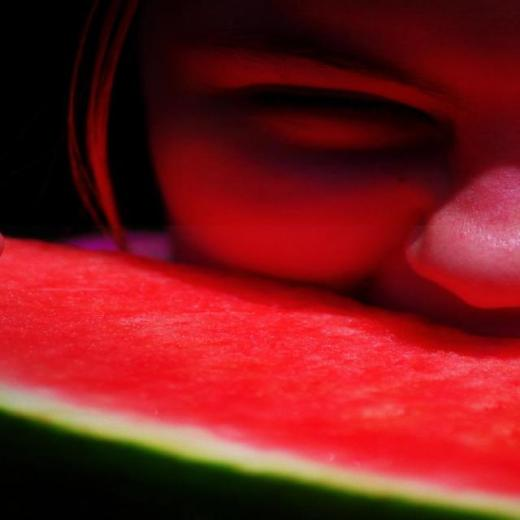Cherry: (0, 234, 519, 519)
